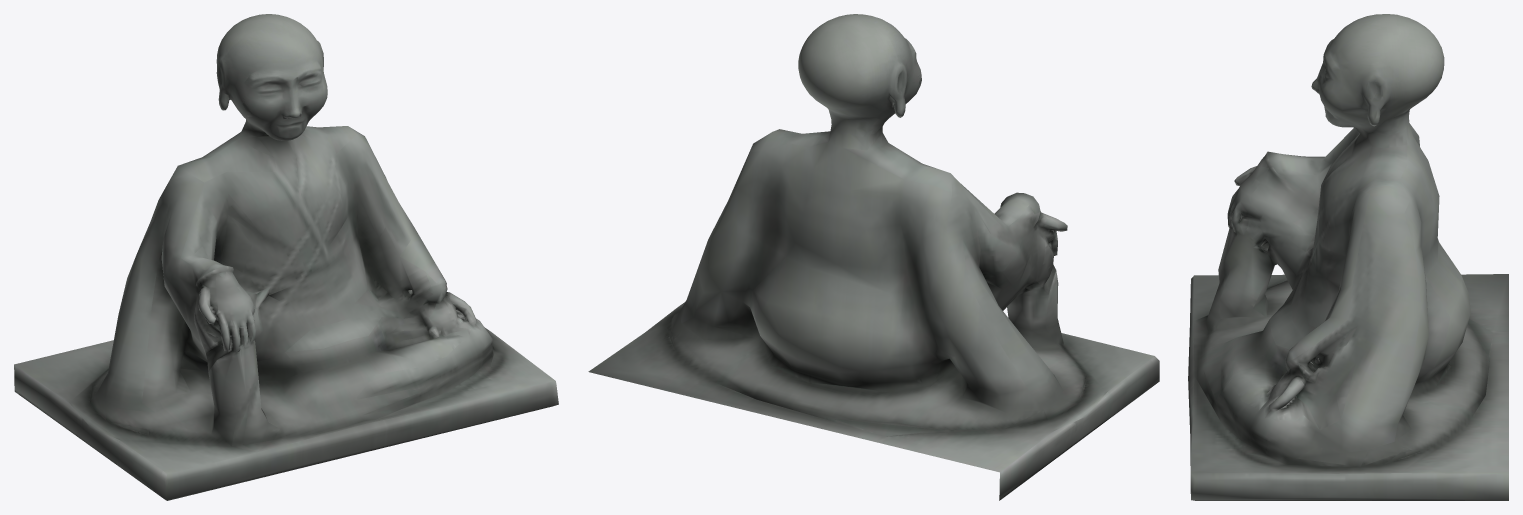
The model's file is arhat_hy.glb.
The picture shows the model from 3 angles, left to right: view 1: azimuth 30°, elevation 25°; view 2: azimuth 150°, elevation 25°; view 3: azimuth 270°, elevation 25°; orthographic projection. The views are drawn at different scales.
Parts seen in each view (by area): view 1: arhat_hy; view 2: arhat_hy; view 3: arhat_hy.
Part boxes in pixels (x1,y1,x2,y2): arhat_hy: (14,14,558,500); arhat_hy: (588,14,1159,500); arhat_hy: (1188,14,1508,500).
Size of the model in its own units: 1.21 by 1.07 by 0.8095.
1 material, 1 textured.
